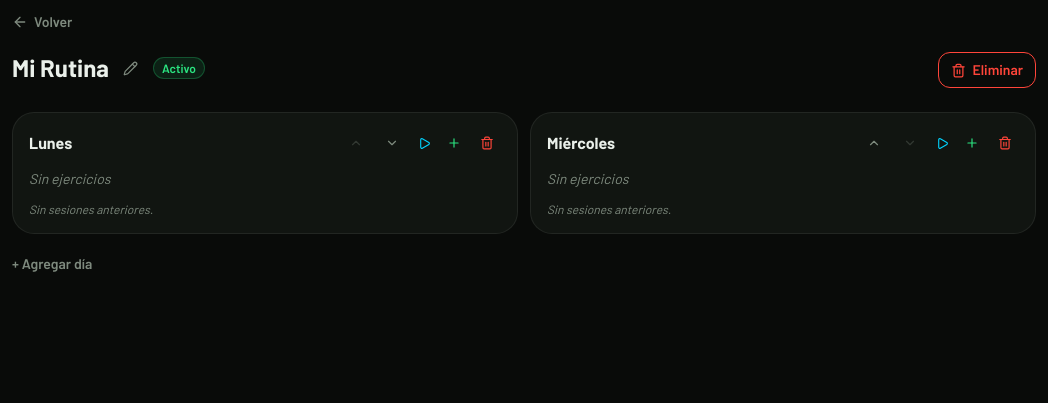
Test: remove training day (TrainingDayCard) › trash button shows inline confirmation; "Cancelar" dismisses without DELETE request
The width and height of the screenshot is (1048, 403).
Expected: the heading "Lunes" is shown, [29,131,72,155]
Click the button named "Eliminar día" in the row of "Lunes" at (487, 143), box [473,129,501,157]
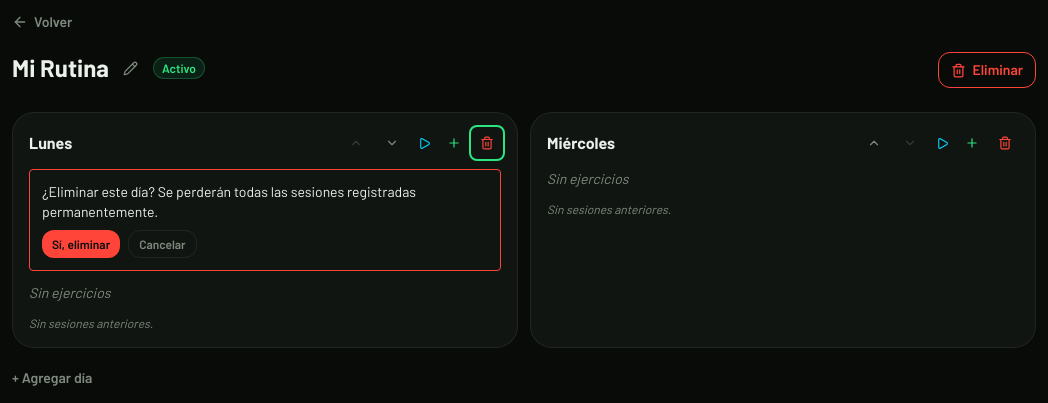
Expected: the button "Sí, eliminar" is shown, [42,230,120,258]
Click the button "Cancelar" at (162, 244), box [128,230,197,258]
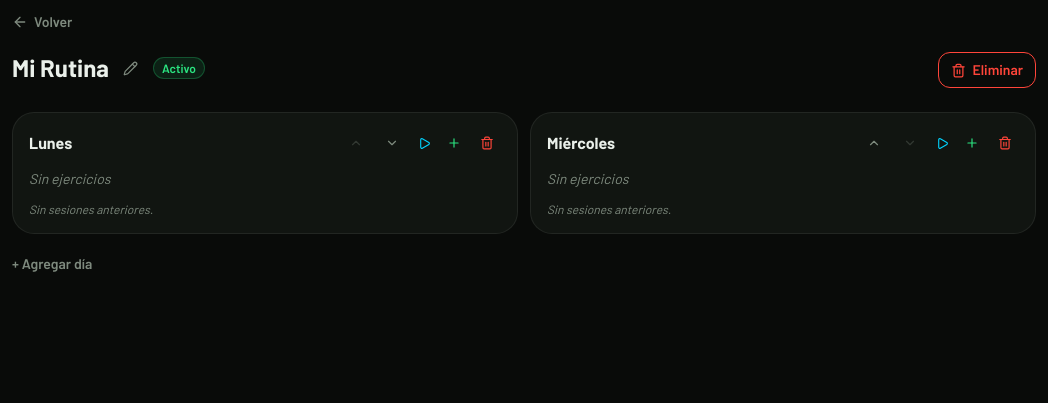
Expected: the button "Sí, eliminar" is gone
